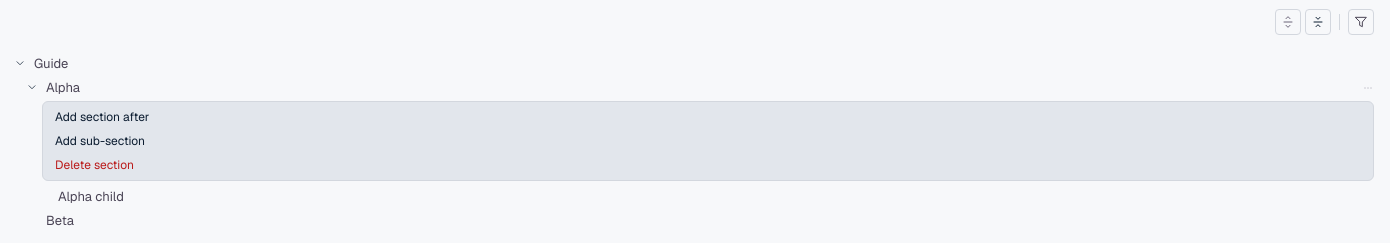
Test: 章节结构菜单：动作与提示 › Add section after 回传文件绝对行的精确计划，成功后收菜单
Earlier steps of the test are not shown.
Click the button "Add section after". click: x=102, y=117
box: 47,106 -> 1369,128
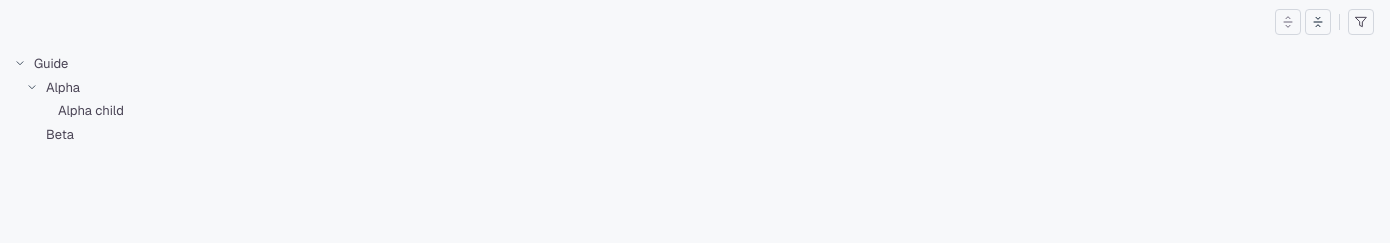
Now the element with class "readora-outline-menu" is gone
